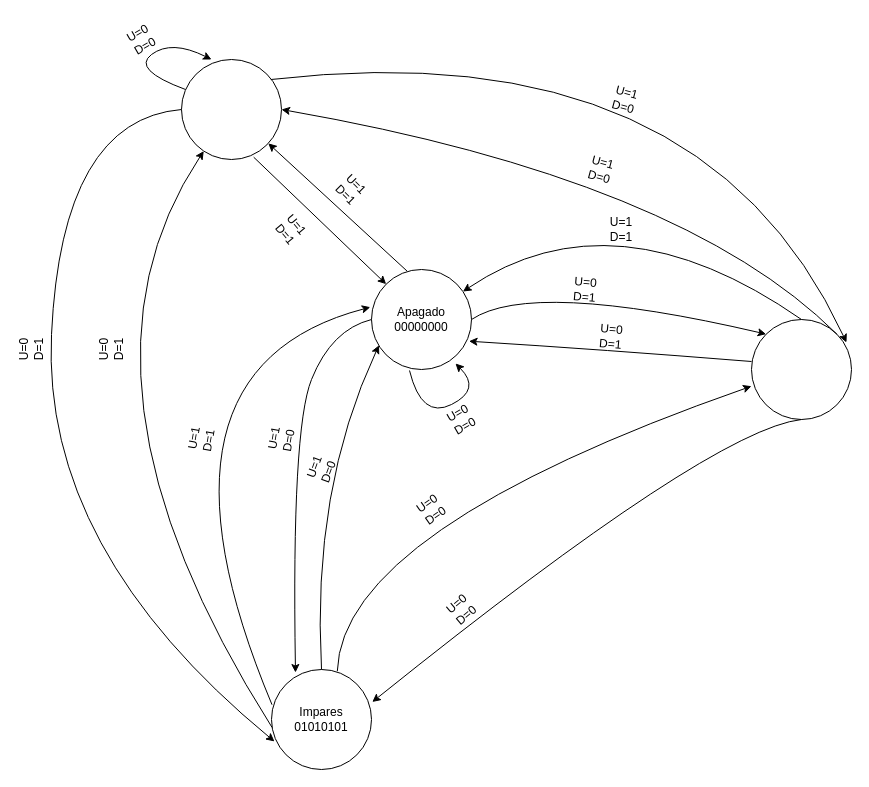
Image size: 869x787. Some labels were removed from this diagram. The shapes that lost their labels are listed below. From the top down, each one's box as (x1, y1, x2, y2) in pixels, then its label:
(180, 58, 282, 160): Todos 11111111
(750, 318, 852, 420): Pares 10101010
